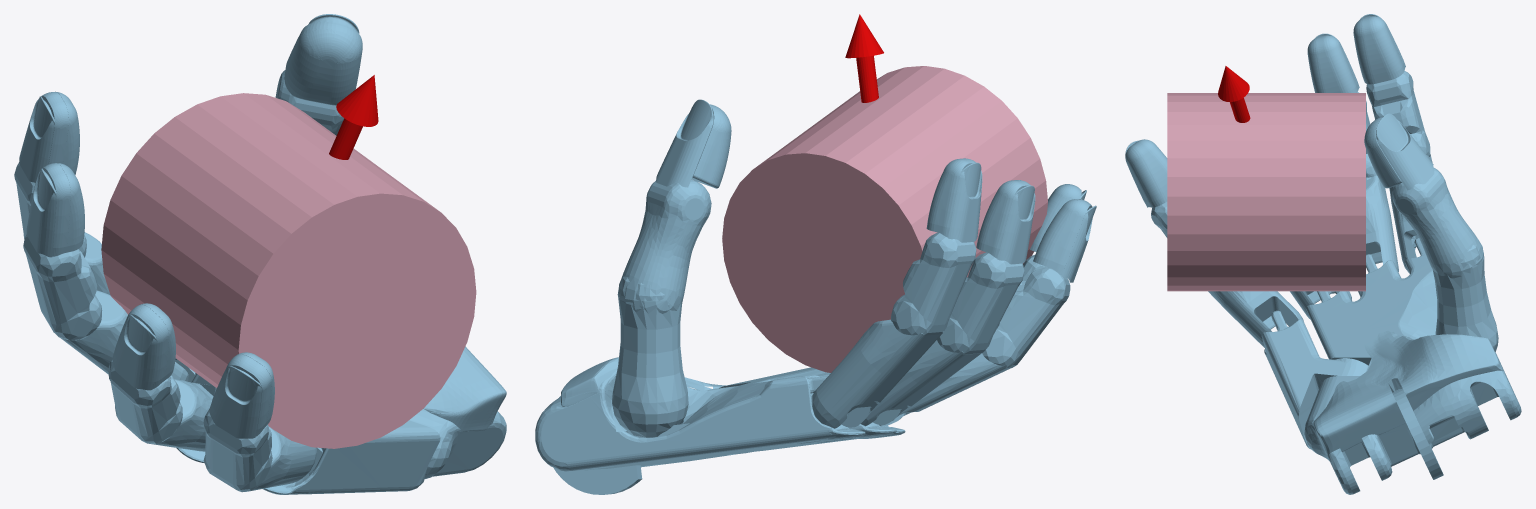
3 views of the same model, side by side, from view 1: azimuth 30°, elevation 25°; view 2: azimuth 150°, elevation 25°; view 3: azimuth 270°, elevation 25° (orthographic). The views are drawn at different scales.
Parts seen in each view (by area): view 1: cylinder_medium.stl, world; view 2: world, cylinder_medium.stl; view 3: world, cylinder_medium.stl.
Boxes of the visible parts, bbox=[...] form: cylinder_medium.stl: bbox=[101, 93, 476, 448]; world: bbox=[14, 14, 506, 494]; world: bbox=[535, 14, 1096, 494]; cylinder_medium.stl: bbox=[722, 66, 1047, 372]; world: bbox=[1125, 14, 1521, 494]; cylinder_medium.stl: bbox=[1167, 93, 1365, 291].
Bounding box in the file's own units: 0.1638 × 0.1611 × 0.1595.
